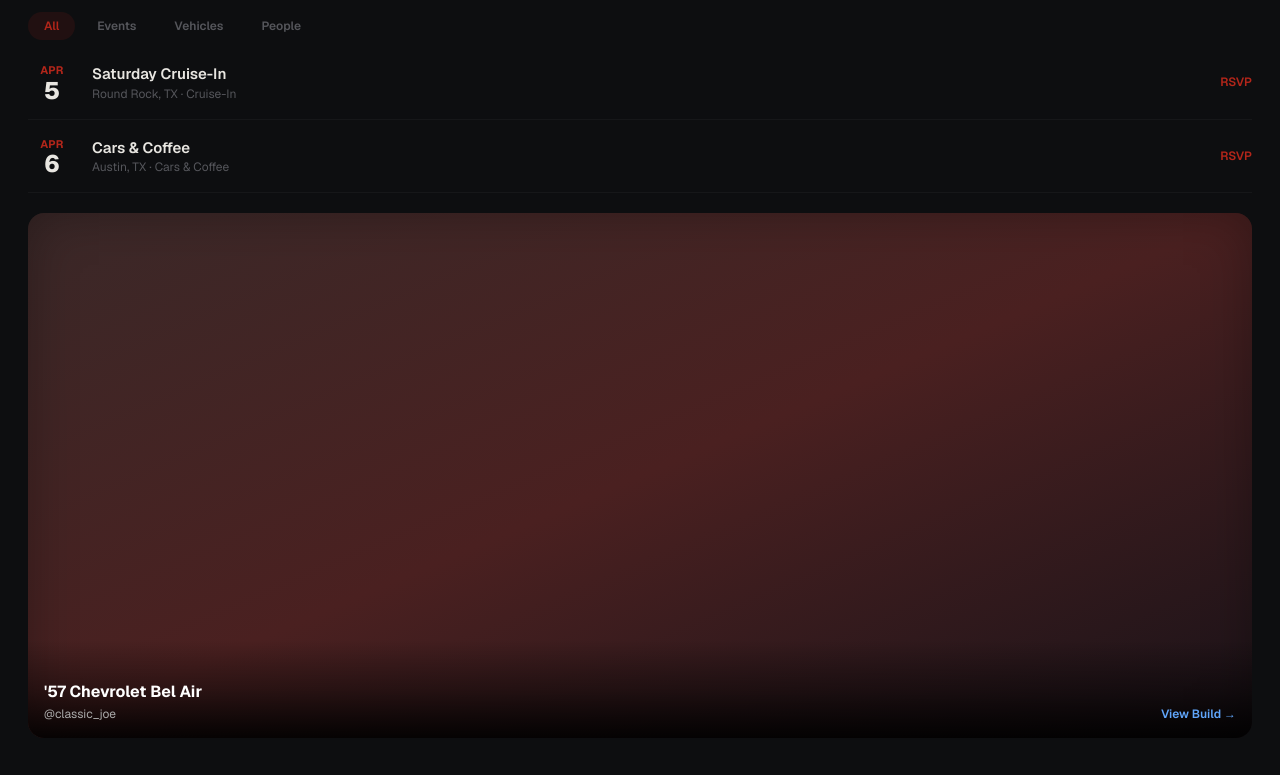
it: LandingFeed › filters to show only events when Events tab is selected
Click the tab "Events": (117, 26) [81,12,152,40]
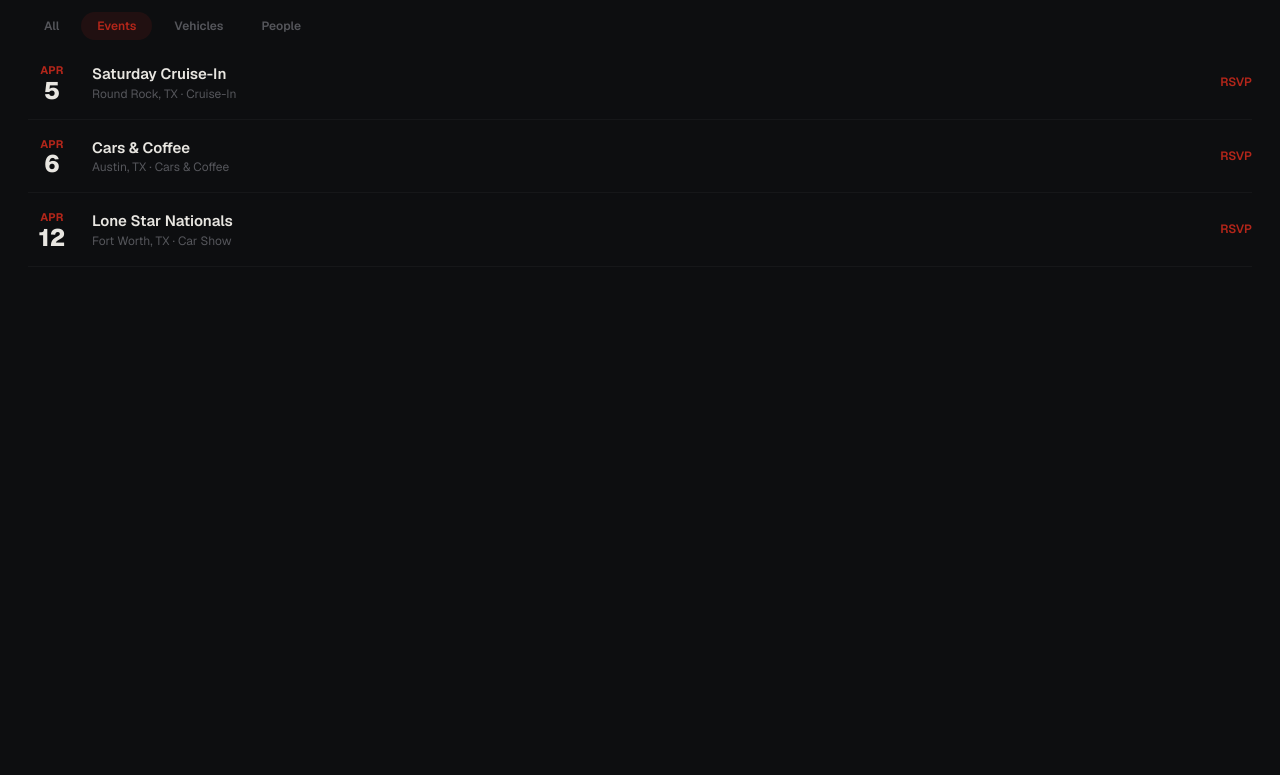
Expected: the text "Saturday Cruise-In" is shown, [92,64,226,83]
Now the link "'57 Chevrolet Bel Air" is gone
